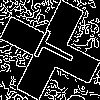T: (25, 25, 80, 73)
